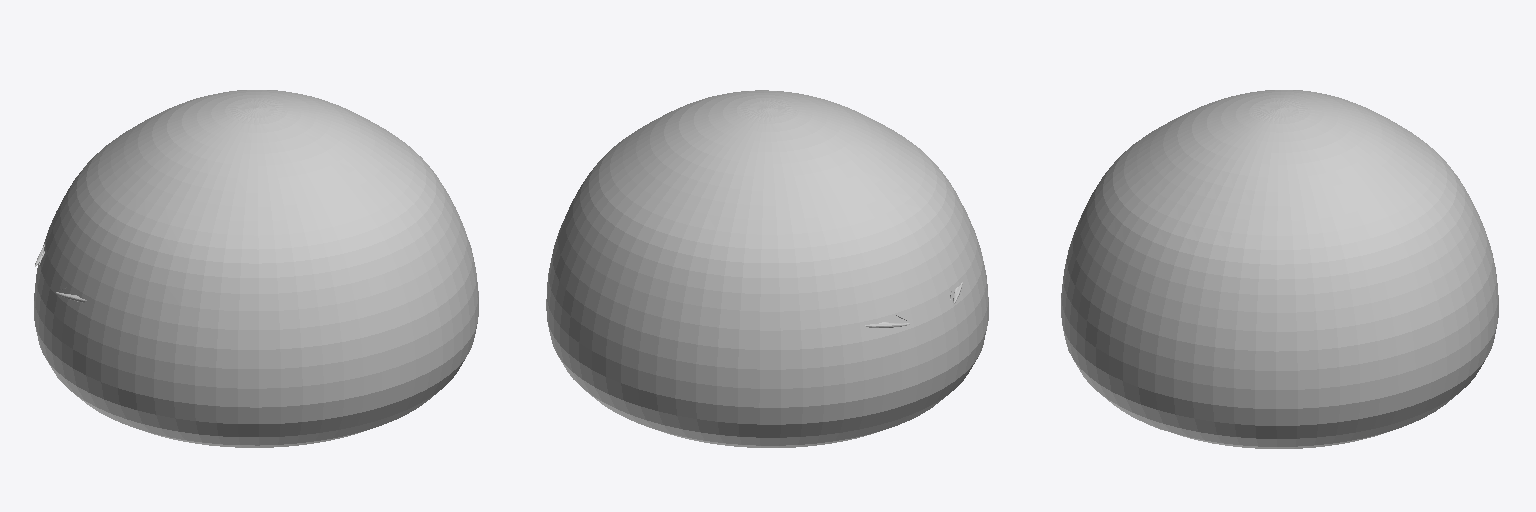
The model's file is slime3.obj.
3 renders of one model, left to right at view 1: azimuth 30°, elevation 25°; view 2: azimuth 150°, elevation 25°; view 3: azimuth 270°, elevation 25°, orthographic.
Visible parts, largest first — view 1: Sphere; view 2: Sphere; view 3: Sphere.
Part boxes in pixels (x1,y1,x2,y2): Sphere: (34, 90, 478, 447); Sphere: (546, 90, 988, 447); Sphere: (1061, 90, 1498, 448).
Bounding box in the file's own units: 1.81 × 1.32 × 1.78.